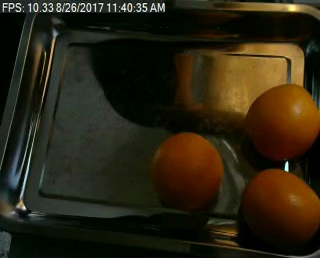Orange: (241, 168, 320, 249), (244, 83, 320, 160), (152, 132, 223, 208)
